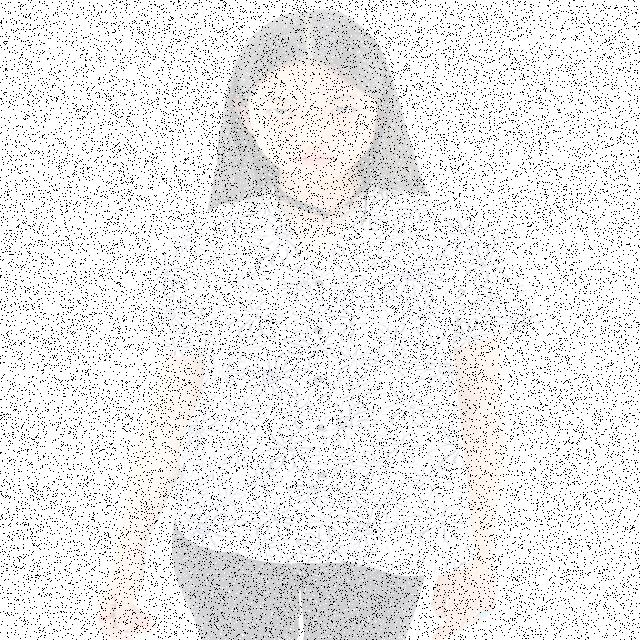dress: (157, 180, 545, 570)
